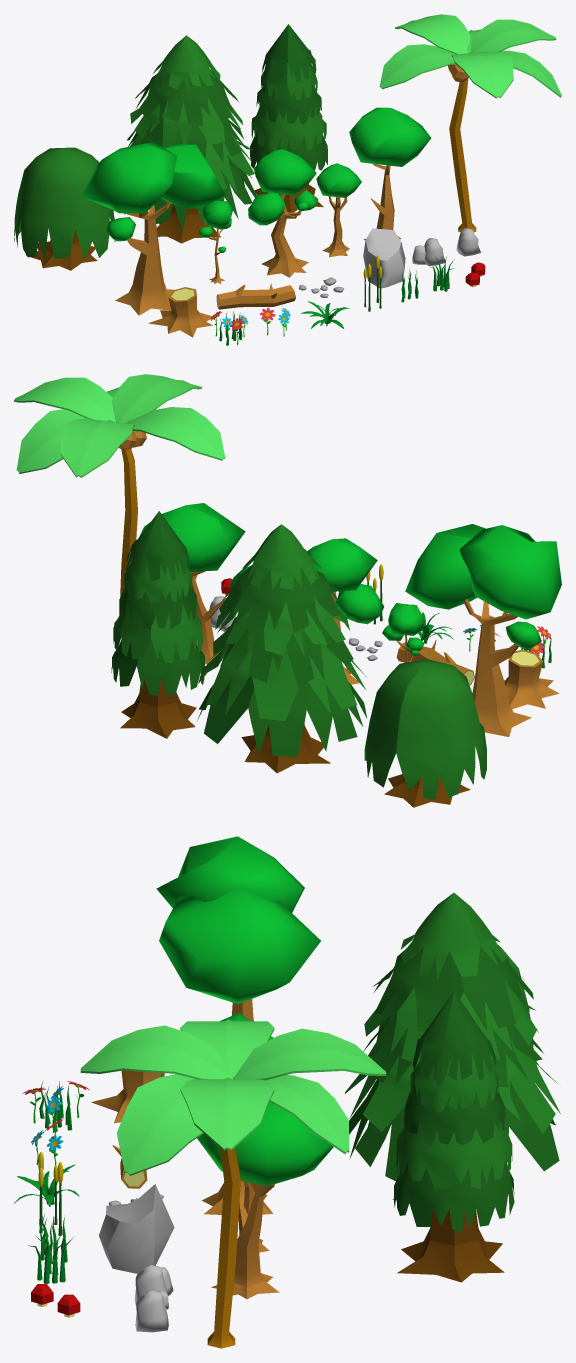
Rendered from mushroom.fbx.
The picture shows the model from 3 angles, top to bottom: view 1: azimuth 30°, elevation 25°; view 2: azimuth 150°, elevation 25°; view 3: azimuth 270°, elevation 25°; orthographic projection. The views are drawn at different scales.
Parts seen in each view (by area): view 1: pPlane14, pCube24, pSphere4, pCylinder11, pPlane13, pCube23, pCylinder4, pCube29, pCylinder10, pCylinder13, pCylinder12, polySurface2 (+6 smaller); view 2: pPlane14, pCube24, pSphere4, pPlane13, pCylinder11, pCylinder4, pCube23, pCylinder13, polySurface2, pCylinder12; view 3: pSphere4, pPlane14, pPlane13, pCube24, pCylinder4, pCube29, pCylinder25, pCube25, pCylinder13, pCube36, pCone26, polySurface4 (+2 smaller).
Boxes of the visible parts, <box> form: pPlane14: <box>124,35,256,243</box>; pCube24: <box>81,142,225,315</box>; pSphere4: <box>379,14,561,232</box>; pCylinder11: <box>14,147,115,270</box>; pPlane13: <box>250,24,327,212</box>; pCube23: <box>248,149,317,277</box>; pCylinder4: <box>349,107,431,243</box>; pCube29: <box>363,228,405,288</box>; pCylinder10: <box>316,163,361,257</box>; pCylinder13: <box>148,287,212,337</box>; pCylinder12: <box>216,283,295,309</box>; polySurface2: <box>199,200,233,284</box>; pPlane14: <box>197,524,367,773</box>; pCube24: <box>405,524,561,736</box>; pSphere4: <box>14,374,225,624</box>; pPlane13: <box>111,511,204,738</box>; pCylinder11: <box>364,659,486,807</box>; pCylinder4: <box>139,503,245,664</box>; pCube23: <box>307,538,384,684</box>; pCylinder13: <box>504,649,559,709</box>; polySurface2: <box>382,603,425,662</box>; pCylinder12: <box>396,640,474,685</box>; pSphere4: <box>80,1019,386,1348</box>; pPlane14: <box>345,893,560,1199</box>; pPlane13: <box>394,991,514,1282</box>; pCube24: <box>156,836,320,1021</box>; pCylinder4: <box>197,1102,333,1299</box>; pCube29: <box>99,1184,174,1273</box>; pCylinder25: <box>22,1080,89,1132</box>; pCube25: <box>135,1290,168,1332</box>; pCylinder13: <box>91,1070,164,1123</box>; pCube36: <box>134,1264,173,1309</box>; pCone26: <box>28,1224,74,1283</box>; polySurface4: <box>31,1284,80,1317</box>.
Size of the model in its own units: 257 by 105 by 171.
